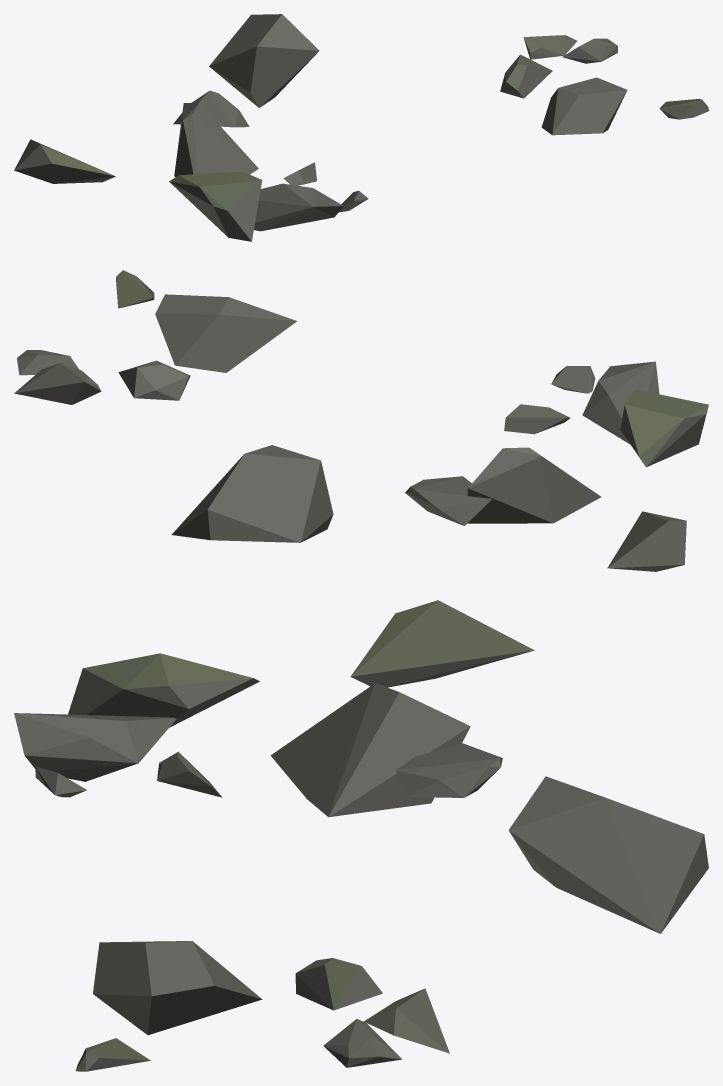
Rendered from pebbles.glb.
The picture shows the model from 3 angles, top to bottom: view 1: azimuth 30°, elevation 25°; view 2: azimuth 150°, elevation 25°; view 3: azimuth 270°, elevation 25°; orthographic projection. The views are drawn at different scales.
Parts seen in each view (by area): view 1: pebbles; view 2: pebbles; view 3: pebbles.
Part boxes in pixels (x1,y1,x2,y2): pebbles: [14, 14, 708, 241]; pebbles: [14, 270, 708, 571]; pebbles: [14, 600, 708, 1071].
Bounding box in the file's own units: 1.81 × 0.1998 × 1.17.
